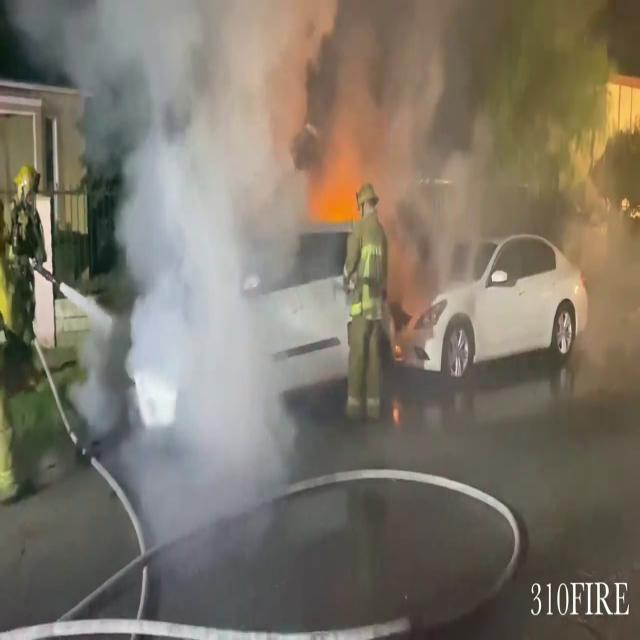Smoke: (63, 0, 619, 573)
